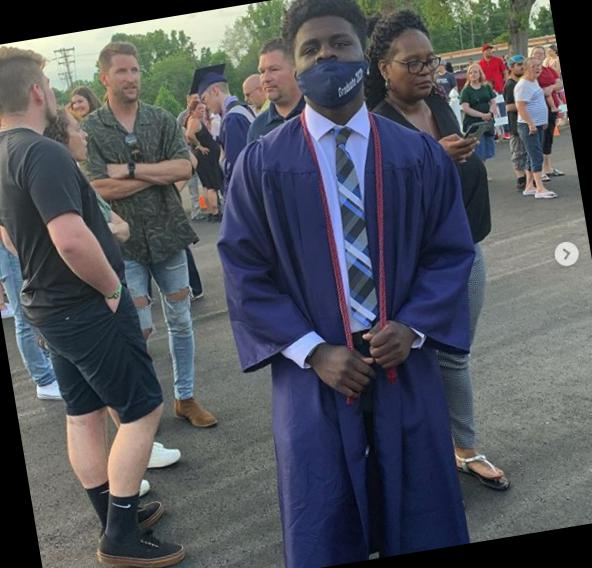mask_weared_incorrect: (296, 29, 371, 102)
without_mask: (393, 40, 444, 100), (108, 52, 147, 104), (257, 55, 294, 106), (37, 73, 62, 124), (69, 118, 94, 161), (241, 80, 263, 111), (71, 94, 93, 118), (527, 58, 547, 81), (201, 89, 215, 118), (465, 65, 483, 86), (192, 102, 208, 117), (533, 48, 544, 59), (515, 64, 525, 75), (486, 48, 495, 56)
